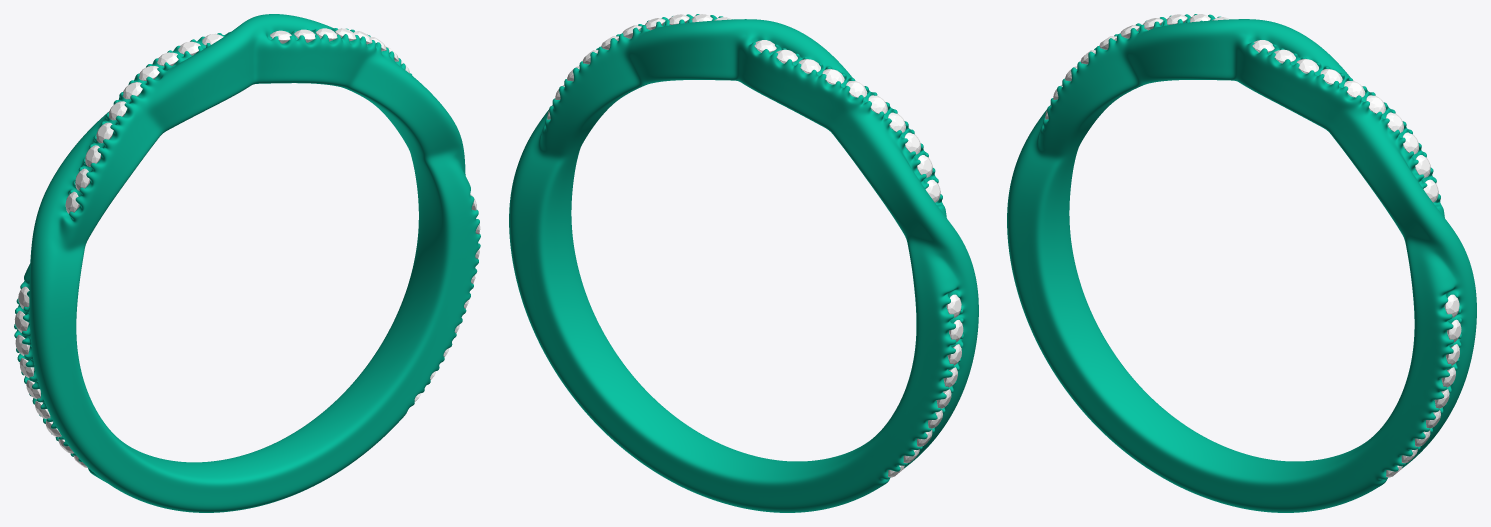
File: BE2M254PLC_RENDER.glb
The picture shows the model from 3 angles, left to right: view 1: azimuth 30°, elevation 25°; view 2: azimuth 150°, elevation 25°; view 3: azimuth 330°, elevation 25°; orthographic projection.
Parts seen in each view (by area): view 1: Metal03; view 2: Metal03; view 3: Metal03.
Part boxes in pixels (x1,y1,x2,y2): Metal03: (14,14,480,512); Metal03: (509,14,978,512); Metal03: (1007,14,1476,512).
Size of the model in its own units: 20.19 by 20.64 by 2.47.
